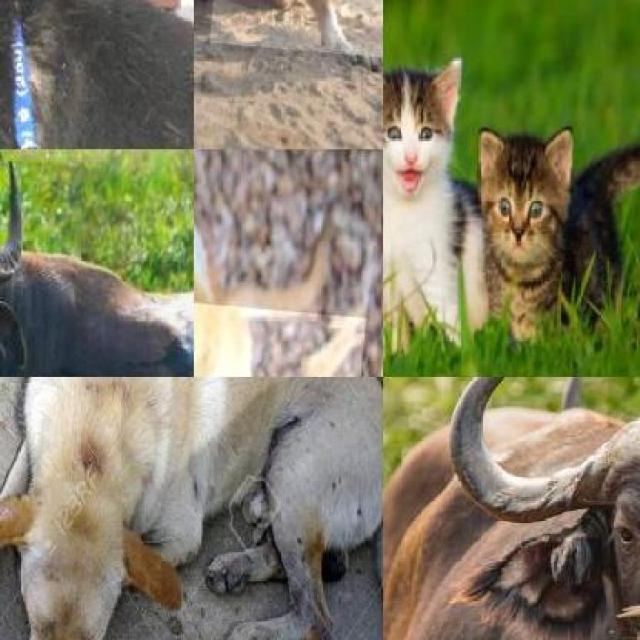buffalo: (444, 377, 640, 640), (0, 149, 194, 377)
cat: (480, 122, 638, 318), (383, 63, 460, 354)
dog: (0, 377, 383, 640), (194, 149, 383, 377), (0, 0, 194, 149), (209, 0, 383, 62)
injured: (193, 300, 364, 377), (194, 0, 295, 48), (78, 377, 180, 411)
